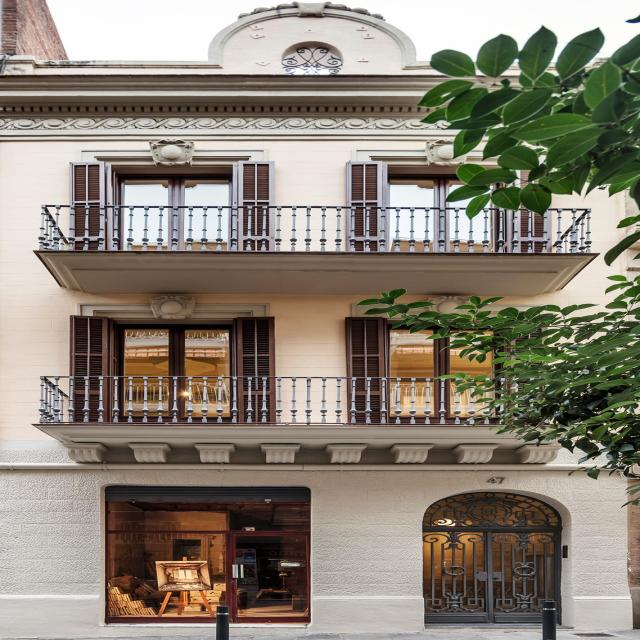door: (419, 490, 566, 629)
railing: (34, 205, 593, 251), (36, 375, 502, 424)
window: (101, 484, 310, 624), (111, 320, 238, 377), (383, 322, 498, 378), (117, 171, 239, 206), (387, 172, 492, 208)
